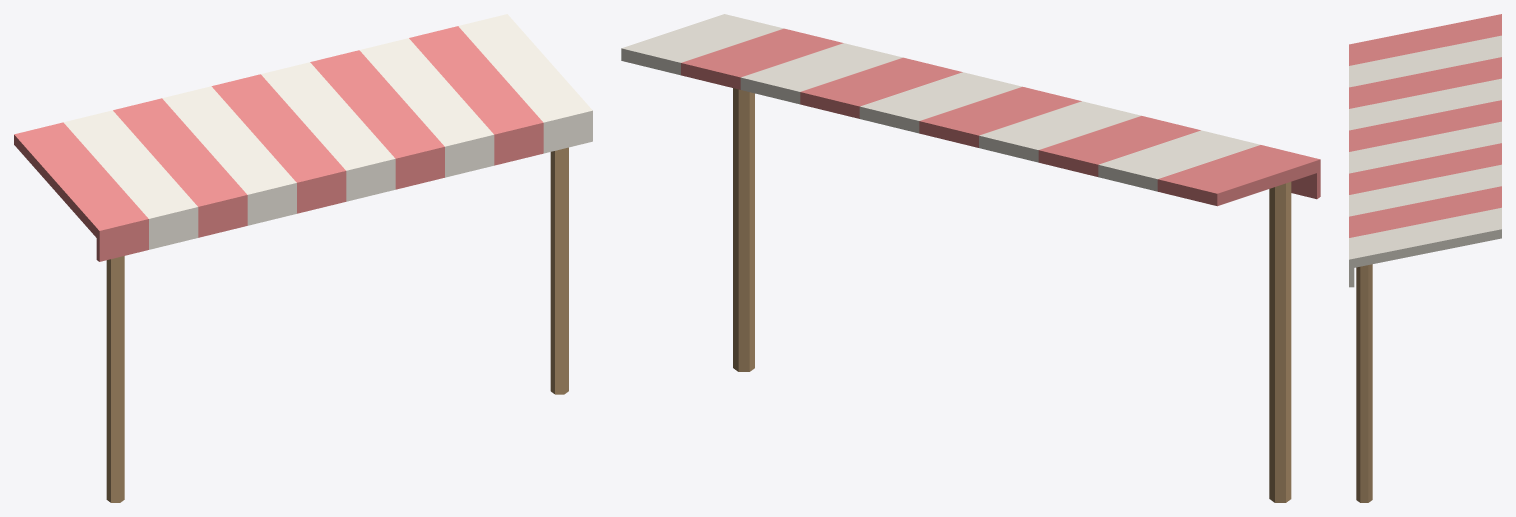
The model's file is awning_w5_0.glb.
3 views of the same model, side by side, from view 1: azimuth 30°, elevation 25°; view 2: azimuth 150°, elevation 25°; view 3: azimuth 270°, elevation 25° (orthographic). The views are drawn at different scales.
Visible parts, largest first — view 1: Player; view 2: Player; view 3: Player.
Part boxes in pixels (box(x1,y1,x2,y2)): Player: box(14, 14, 592, 502); Player: box(621, 14, 1320, 502); Player: box(1349, 14, 1501, 502).
Size of the model in its own units: 5 by 3.05 by 1.5.
